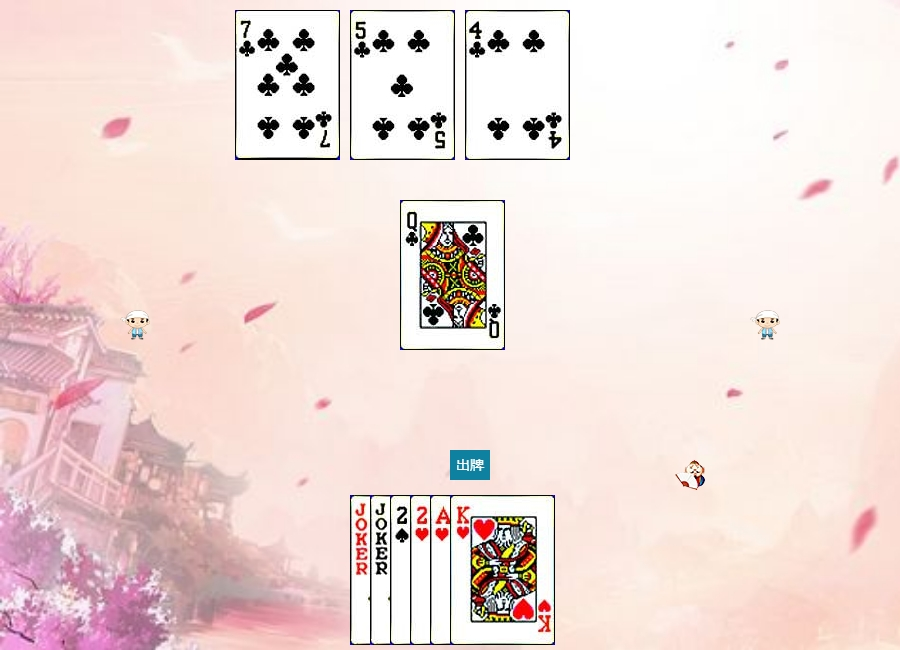12~2: (400, 200, 505, 350)
13~3: (450, 495, 555, 645)
14~3: (430, 495, 535, 645)
15~3: (410, 495, 515, 645)
15~4: (390, 495, 495, 645)
17~3: (370, 495, 475, 645)
18~4: (350, 495, 455, 645)
4~2: (465, 10, 570, 160)
5~2: (350, 10, 455, 160)
7~2: (235, 10, 340, 160)
